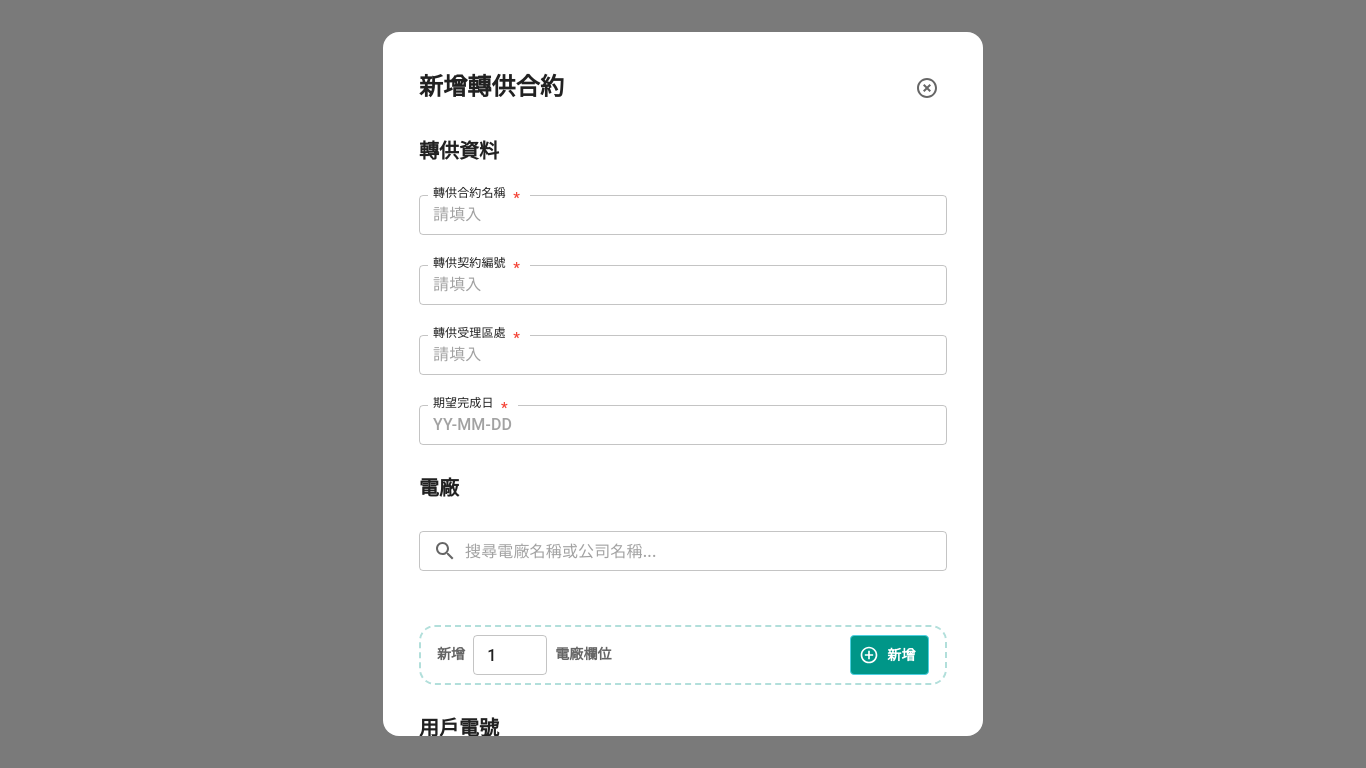
Test: TransferDocumentDialog › 動態表單欄位測試 › 點擊新增按鈕應該新增電廠 Chip
Expected: the heading "新增轉供合約" is shown, [419, 73, 564, 103]
# 第一個「新增」按鈕是電廠區段的
Click the button "新增" at (890, 655), box [850, 635, 929, 675]
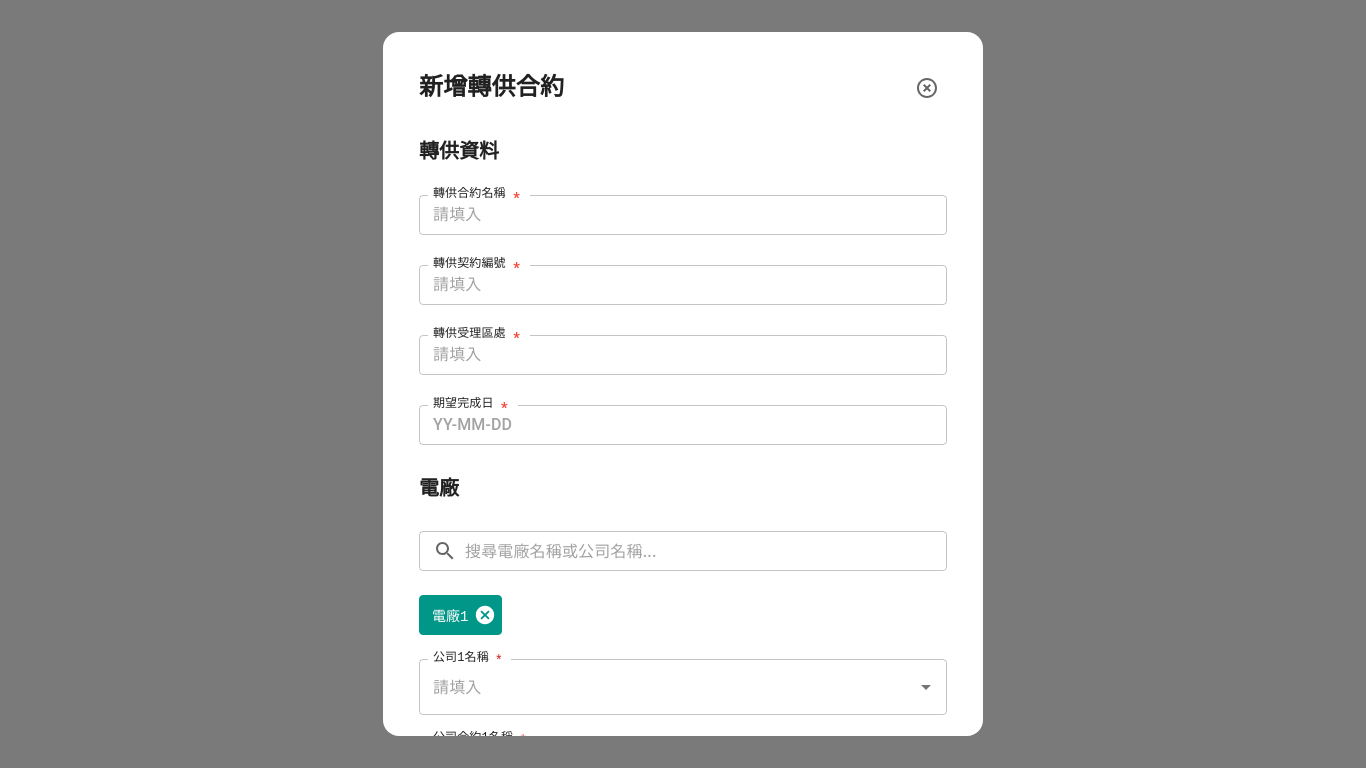
Expected: the text "電廠1" is shown, [432, 609, 468, 625]
